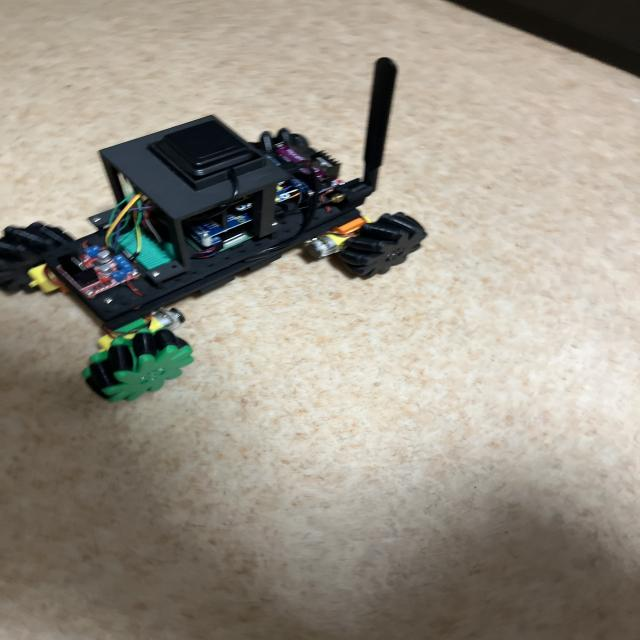robot: (0, 58, 427, 402)
